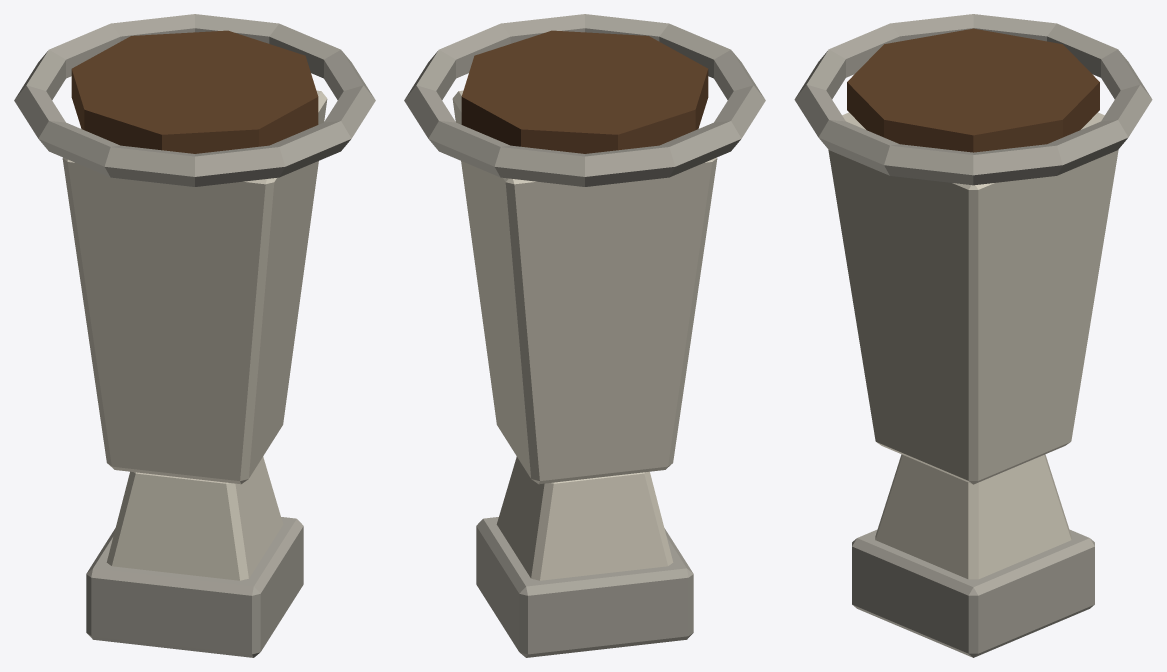
File: runtime.glb
3 renders of one model, left to right at view 1: azimuth 30°, elevation 25°; view 2: azimuth 150°, elevation 25°; view 3: azimuth 270°, elevation 25°, orthographic.
Visible parts, largest first — view 1: eiffel-historic-urn-v02_nocol; view 2: eiffel-historic-urn-v02_nocol; view 3: eiffel-historic-urn-v02_nocol.
Part boxes in pixels (x1,y1,x2,y2): eiffel-historic-urn-v02_nocol: (14,14,375,657); eiffel-historic-urn-v02_nocol: (404,14,765,657); eiffel-historic-urn-v02_nocol: (794,14,1152,657).
Bounding box in the file's own units: 0.918 × 1.49 × 0.918.
